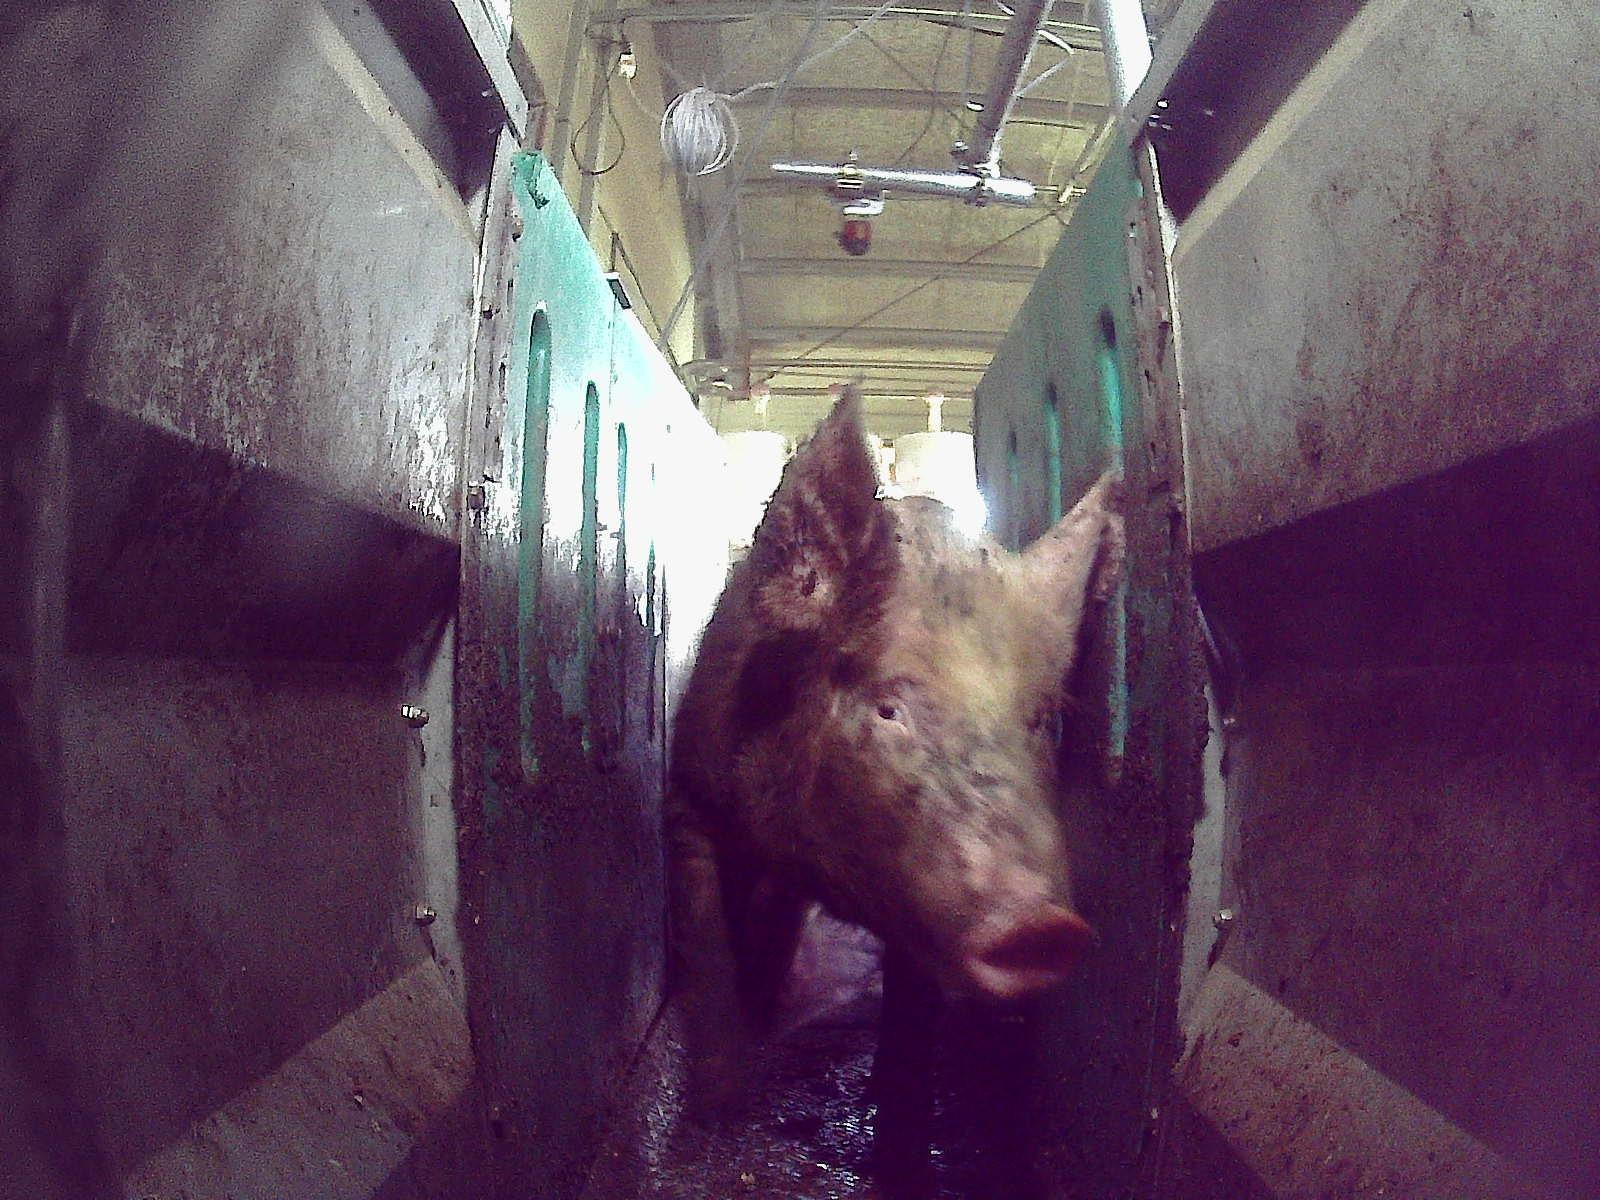Face: (810, 556, 1095, 1001)
